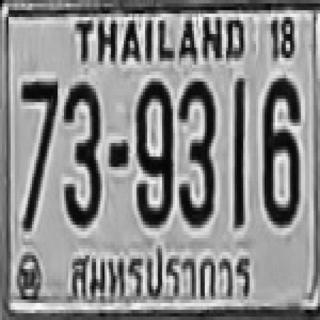N01: (232, 78, 243, 225)
N03: (177, 78, 213, 225), (62, 78, 98, 225)
N06: (260, 75, 299, 221)
N07: (19, 78, 58, 228), (19, 78, 58, 177)
N09: (134, 78, 171, 225)
P57: (67, 244, 255, 301)
